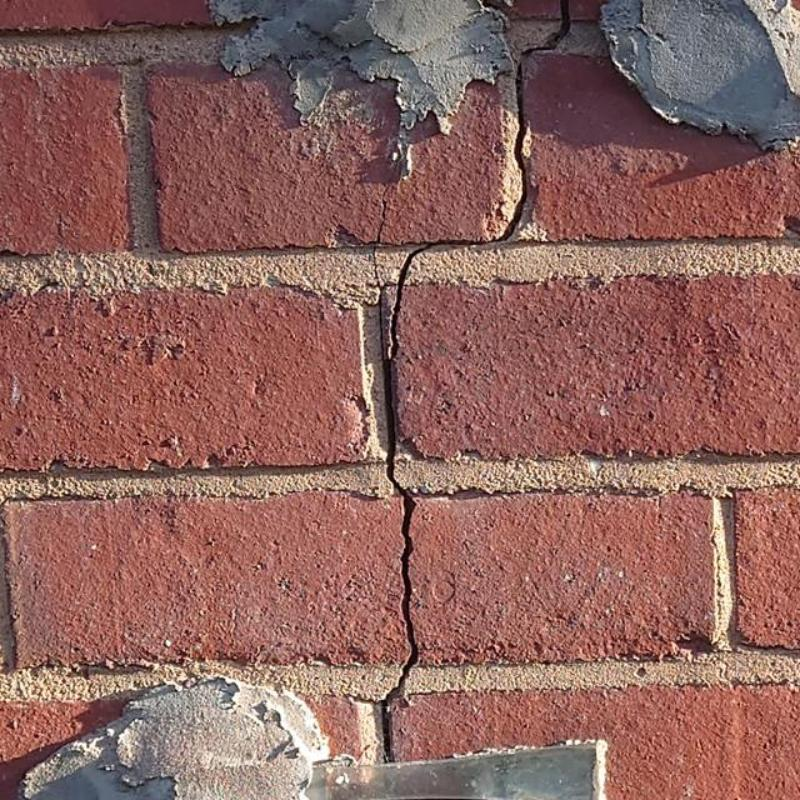crack: (383, 243, 433, 762), (434, 64, 526, 245), (372, 184, 388, 360), (522, 1, 570, 55)
